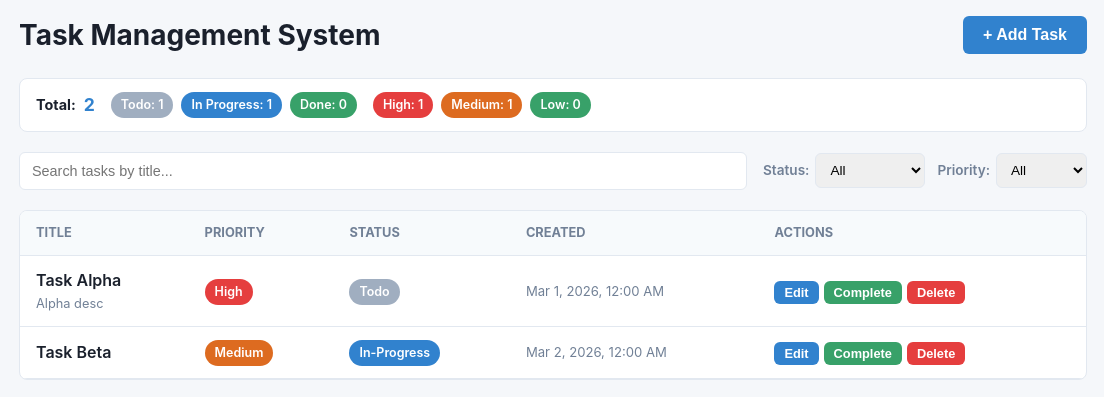
Test: App › filters tasks by search query
The image size is (1104, 397).
Expected: the text "Task Alpha" is shown, 36,270 -> 121,290
Type "Beta" into the field labelled "Search tasks" at (383,171), box 19,152 -> 747,190
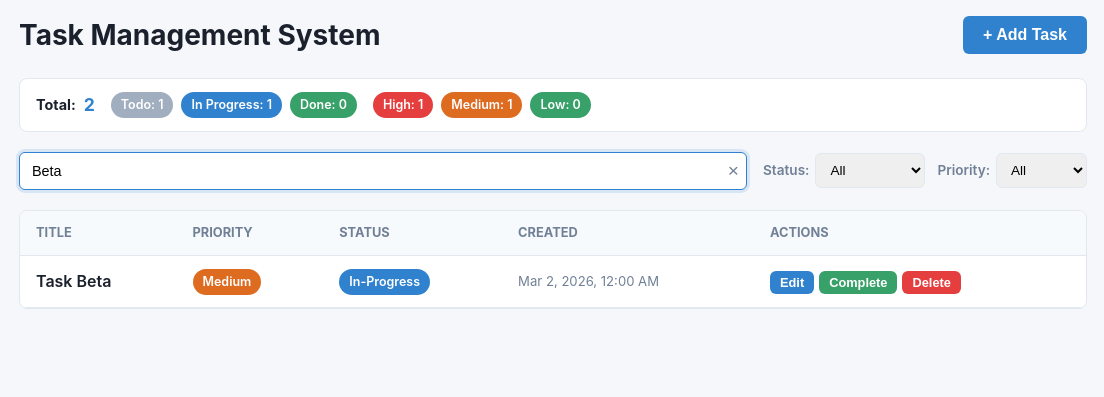
Expected: the text "Task Beta" is shown, 36,271 -> 111,291
Result: the text "Task Alpha" is gone
